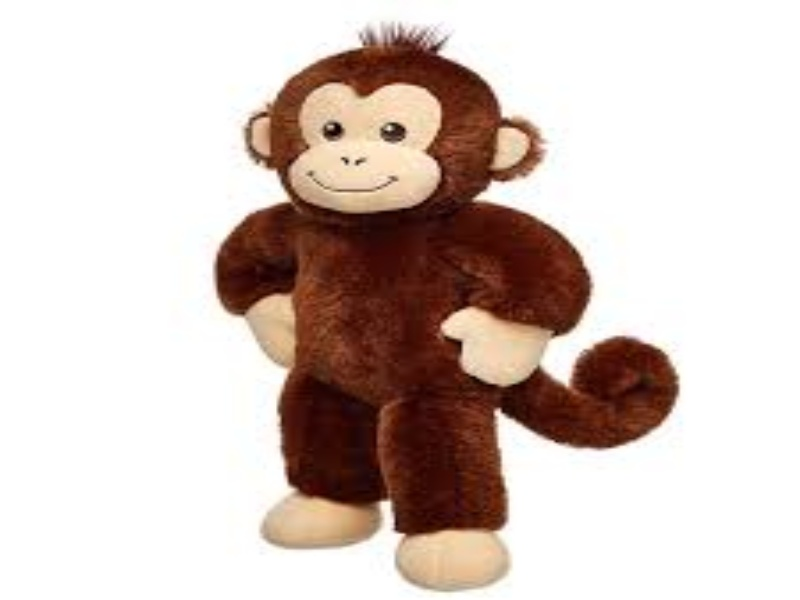monkey: (153, 20, 700, 600)
